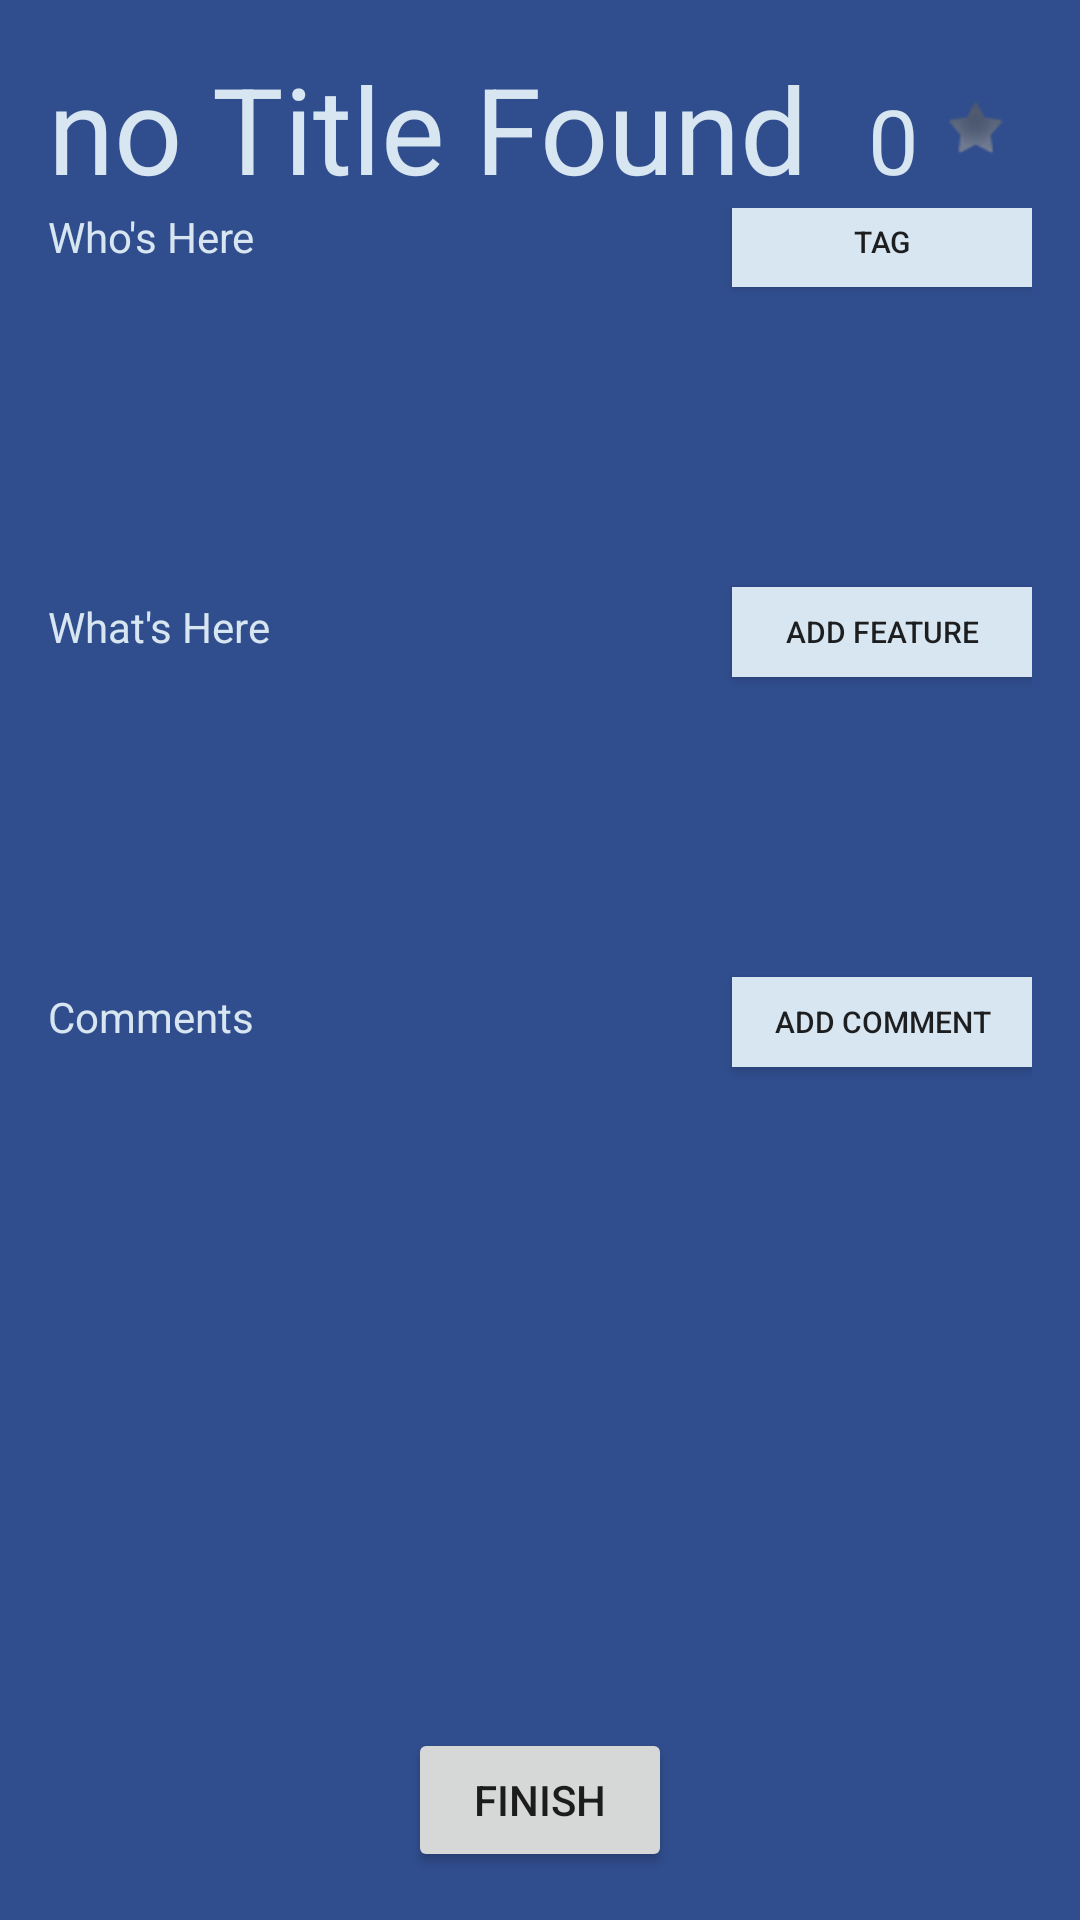

Icons on this 1080 × 1920 Android screen, each with its box as (x1=x1, y1=y1, x2=x2, y2=y2):
star off: (x1=950, y1=103, x2=1001, y2=152)
